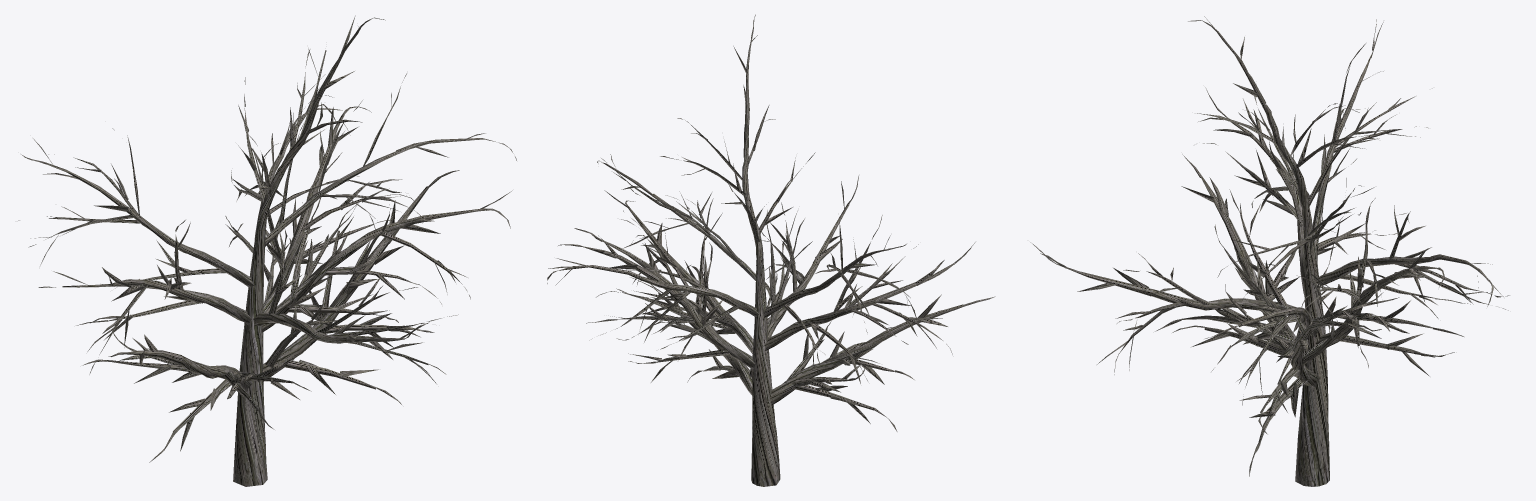
Rendered from muerto_roble.glb.
3 renders of one model, left to right at view 1: azimuth 30°, elevation 25°; view 2: azimuth 150°, elevation 25°; view 3: azimuth 270°, elevation 25°, orthographic. The views are drawn at different scales.
Parts seen in each view (by area): view 1: muerto_roble_ramas; view 2: muerto_roble_ramas; view 3: muerto_roble_ramas.
Part boxes in pixels (box(x1,y1,x2,y2)): muerto_roble_ramas: box(18, 15, 516, 486); muerto_roble_ramas: box(547, 14, 995, 486); muerto_roble_ramas: box(1030, 16, 1509, 486).
Bounding box in the file's own units: 10.29 × 10.89 × 9.9.
1 material, 1 textured.
